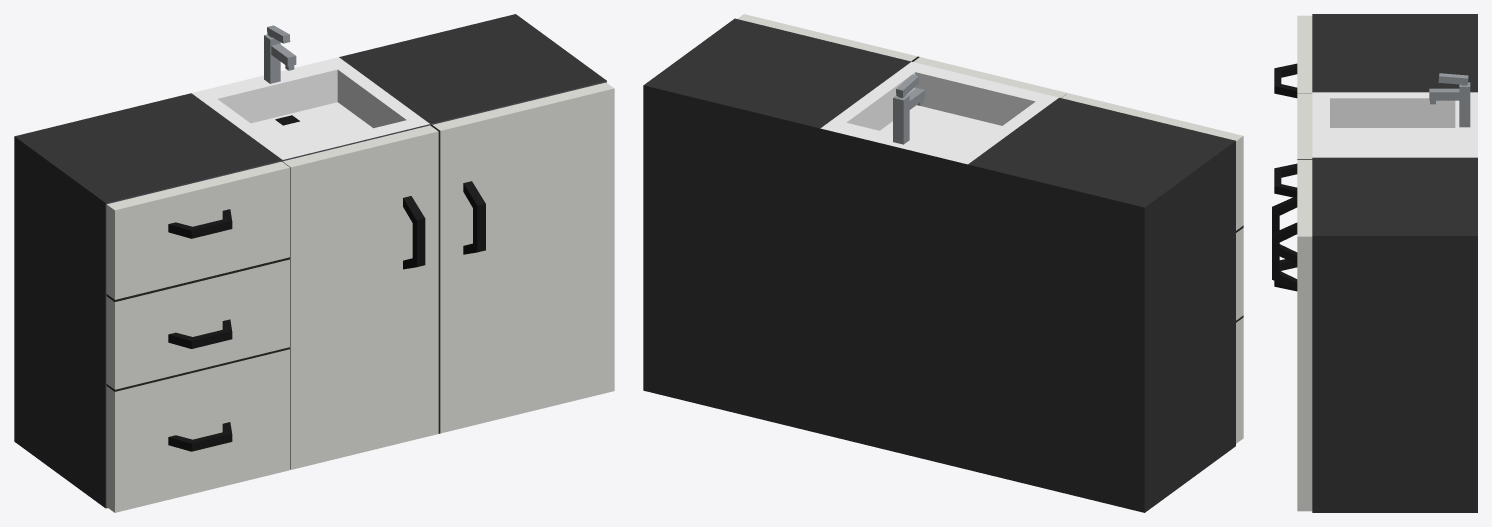
Rendered from Bath_Wash_basin_1A.fbx.
The picture shows the model from 3 angles, left to right: view 1: azimuth 30°, elevation 25°; view 2: azimuth 150°, elevation 25°; view 3: azimuth 270°, elevation 25°; orthographic projection. The views are drawn at different scales.
Visible parts, largest first — view 1: polySurface1853; view 2: polySurface1853; view 3: polySurface1853.
Part boxes in pixels (left/top/right/bottom): polySurface1853: left=14, top=14, right=614, bottom=512; polySurface1853: left=643, top=14, right=1243, bottom=512; polySurface1853: left=1272, top=14, right=1477, bottom=512.
Size of the model in its own units: 2.21 by 1.52 by 0.8661.
Materials: 1 (1 with a texture image).
